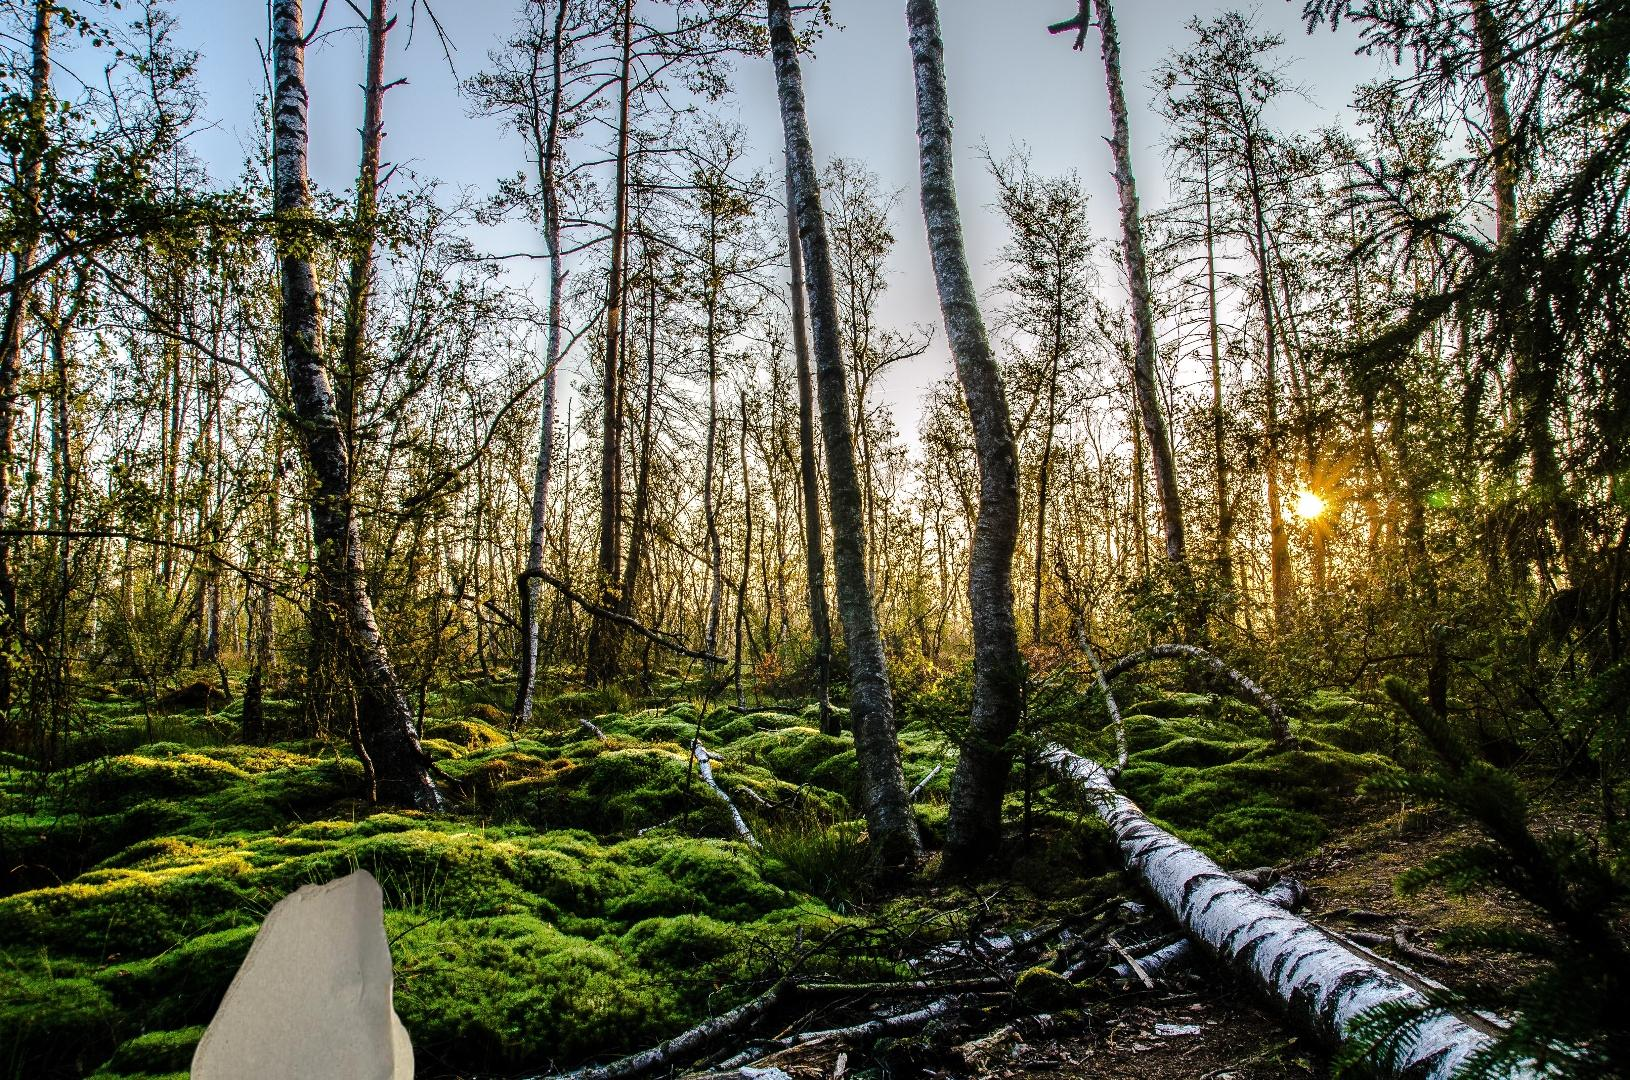paper: (184, 865, 420, 1080)
